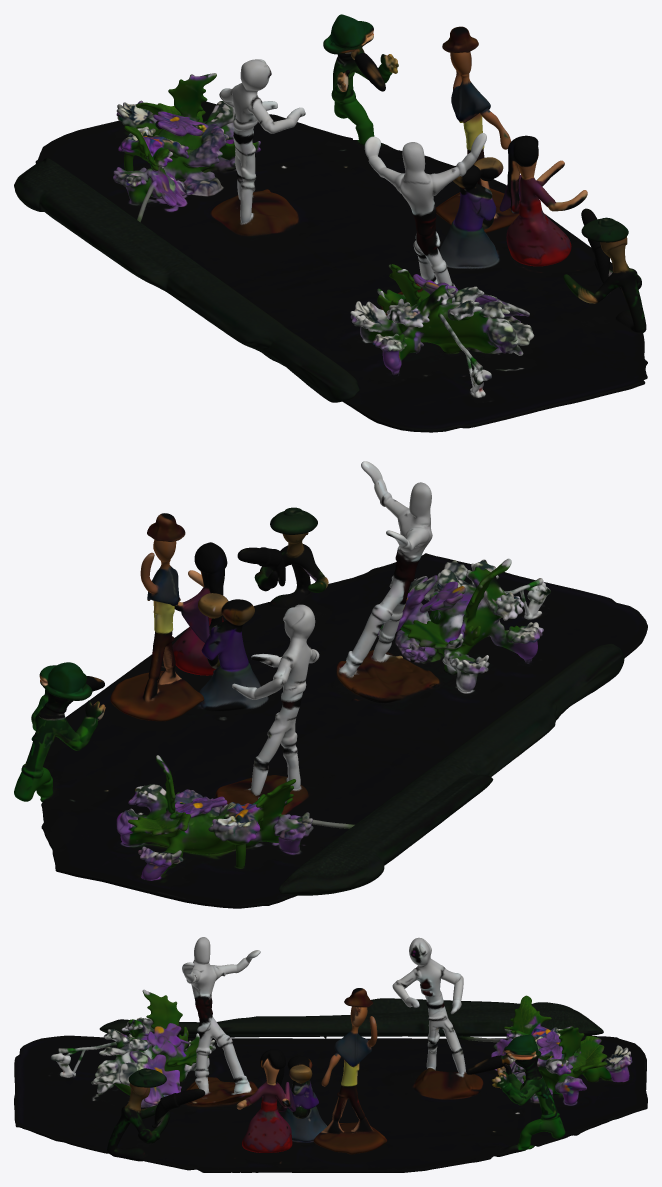
File: modelo1.glb
3 renders of one model, top to bottom at view 1: azimuth 30°, elevation 25°; view 2: azimuth 150°, elevation 25°; view 3: azimuth 270°, elevation 25°, orthographic. The views are drawn at different scales.
Visible parts, largest first — view 1: Object_01; view 2: Object_01; view 3: Object_01.
Boxes of the visible parts, <box> form: Object_01: <box>14,14,647,432</box>; Object_01: <box>14,461,647,908</box>; Object_01: <box>14,937,647,1172</box>.
Size of the model in its own units: 0.5691 by 0.2764 by 1.
1 material, 1 textured.
